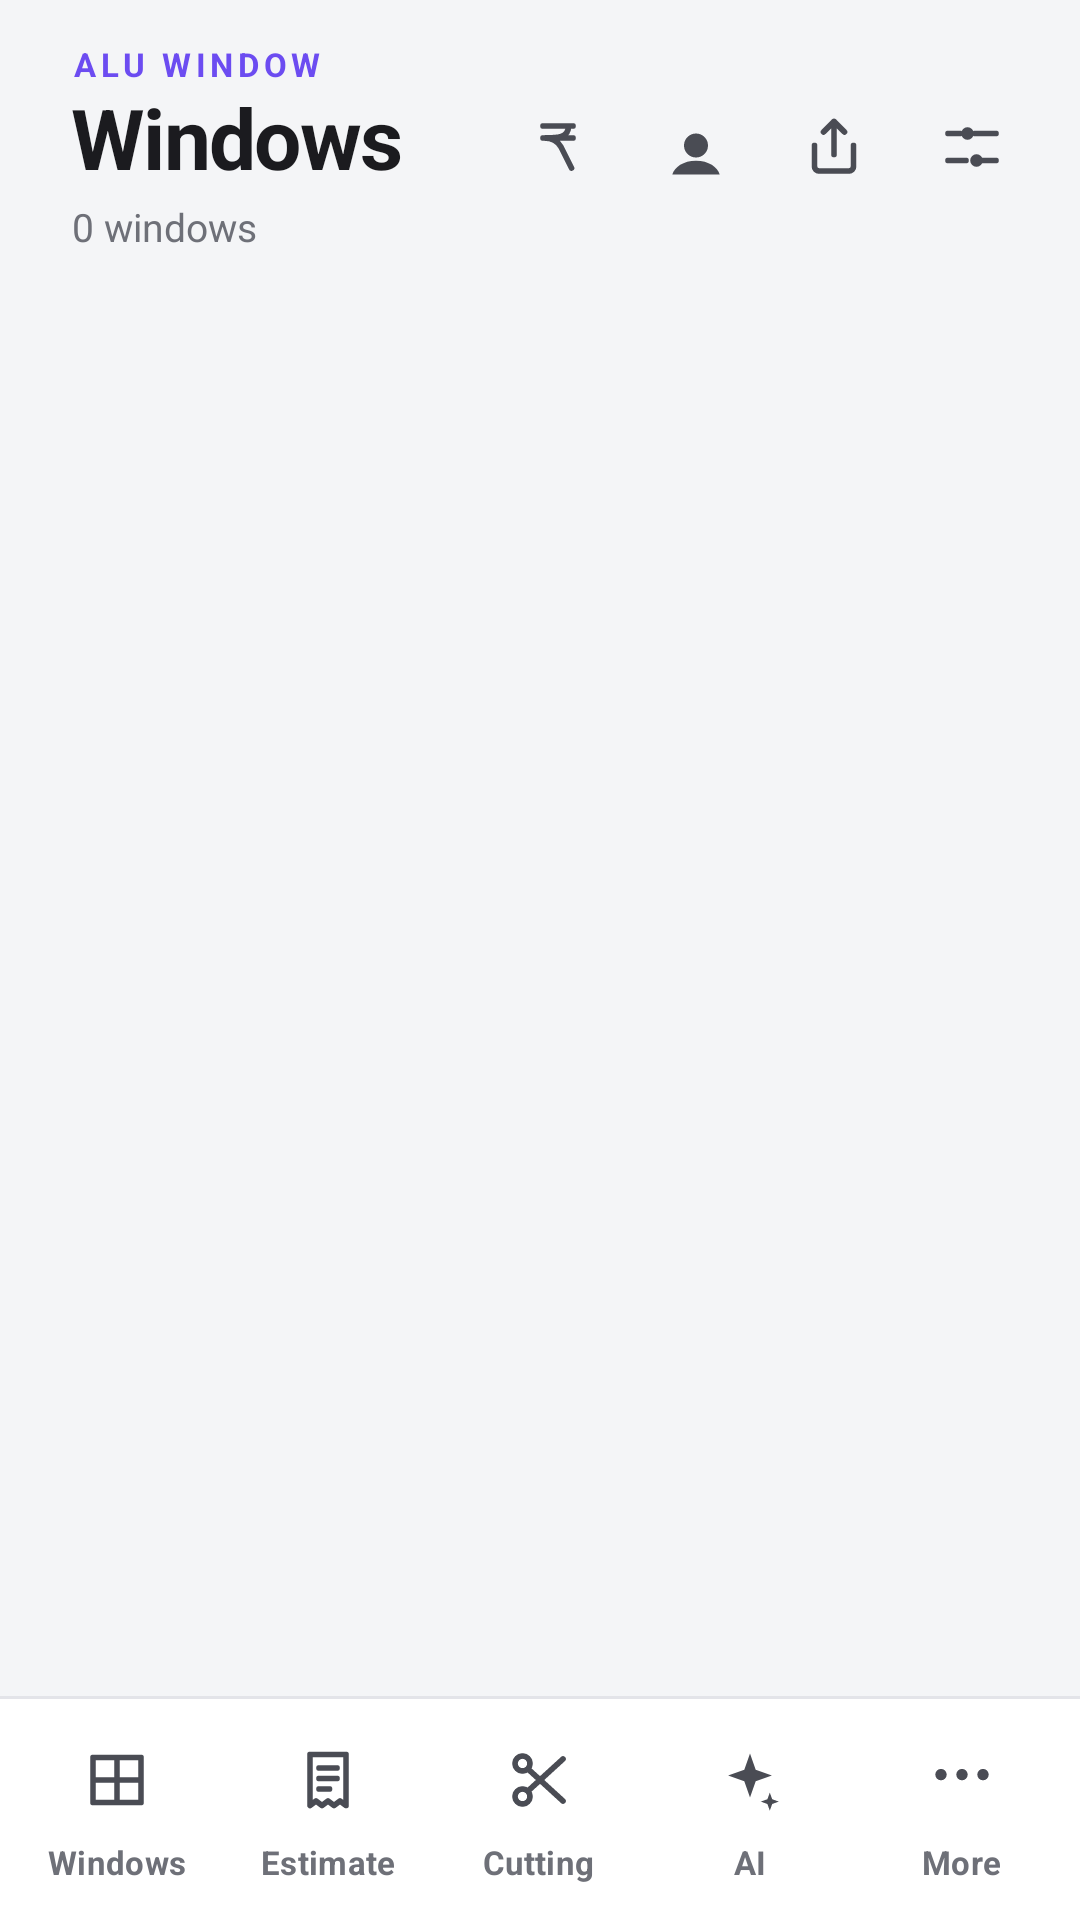

Where icons sit on this 1080px x 1920px app screen, as (x1, y1, x2, y2):
Customers: (672, 133, 720, 175)
Price: (540, 123, 576, 171)
Settings: (945, 127, 999, 167)
Share: (811, 118, 857, 174)
